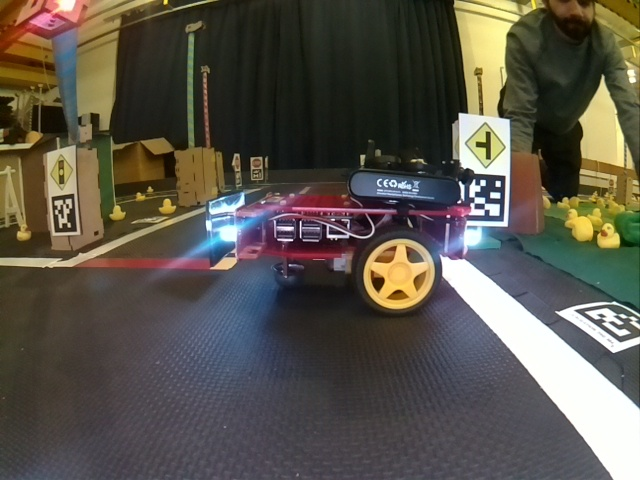Duckie: (601, 224, 620, 247), (564, 209, 580, 226), (159, 200, 176, 214), (18, 225, 31, 240), (588, 209, 602, 222), (113, 206, 123, 220), (557, 197, 569, 207), (135, 194, 143, 202)
Duckiebot: (206, 169, 461, 309)
Intersection sign: (464, 119, 506, 167)
QR code: (556, 301, 638, 352), (459, 174, 506, 222), (50, 194, 78, 235), (250, 169, 263, 180)
Signal sign: (47, 153, 75, 190)
